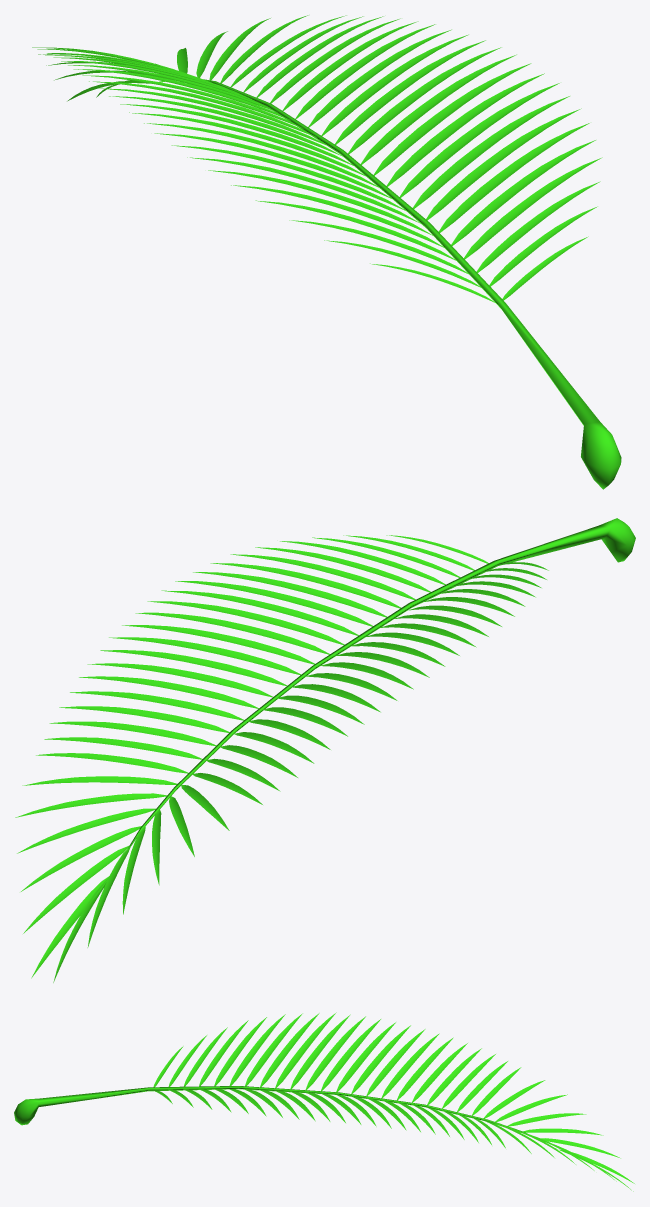
Rendered from ヤシの葉1枚.fbx.
The picture shows the model from 3 angles, top to bottom: view 1: azimuth 30°, elevation 25°; view 2: azimuth 150°, elevation 25°; view 3: azimuth 270°, elevation 25°; orthographic projection. The views are drawn at different scales.
Parts seen in each view (by area): view 1: 葉本体; view 2: 葉本体; view 3: 葉本体.
Part boxes in pixels (x1,y1,x2,y2): 葉本体: [32, 15, 621, 489]; 葉本体: [15, 518, 635, 982]; 葉本体: [14, 1012, 634, 1191].
Size of the model in its own units: 296 by 175 by 813.
